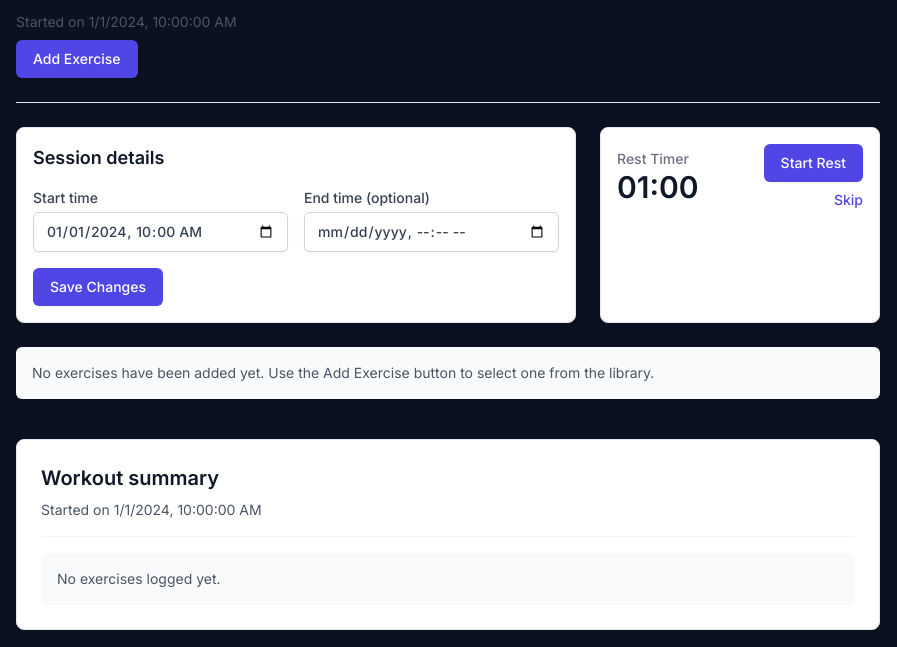
Scenario: WorkoutSessionPage › shows validation error when times are invalid
Replace the text in the field labelled "Start time" with "2024-01-01T12:00" at coordinates (160, 232), box [33,212,288,252]
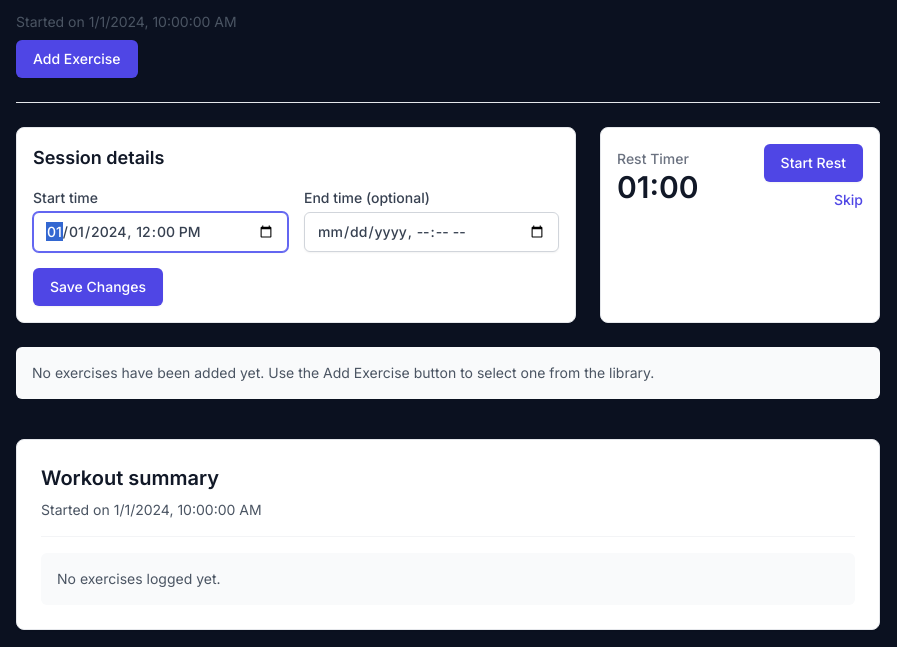
Type "2024-01-01T11:00" into the field labelled "End time (optional)" at coordinates (432, 232), box [304,212,559,252]
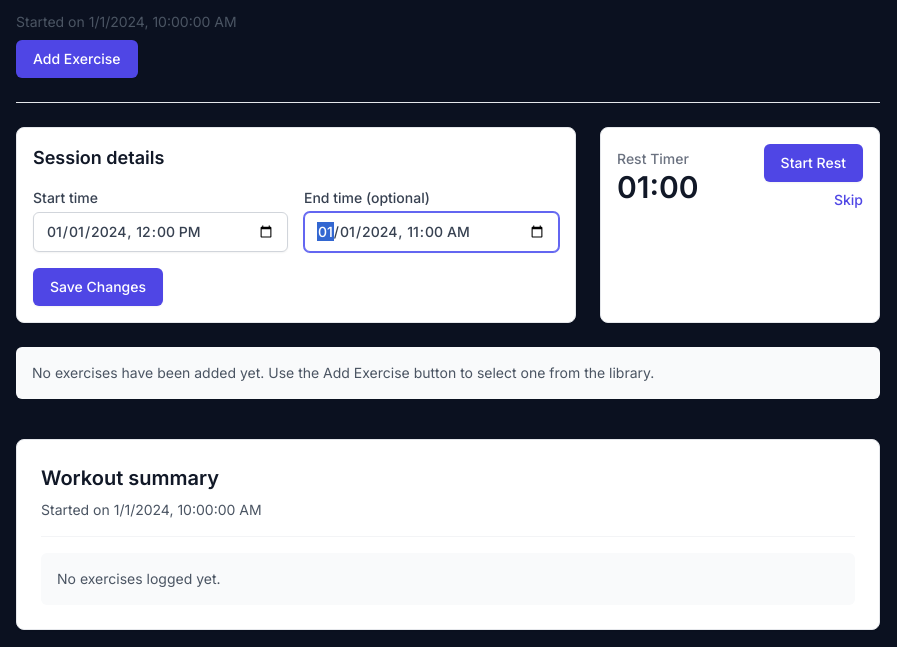
Click the button "Save Changes" at coordinates (98, 287), box [33,268,163,306]
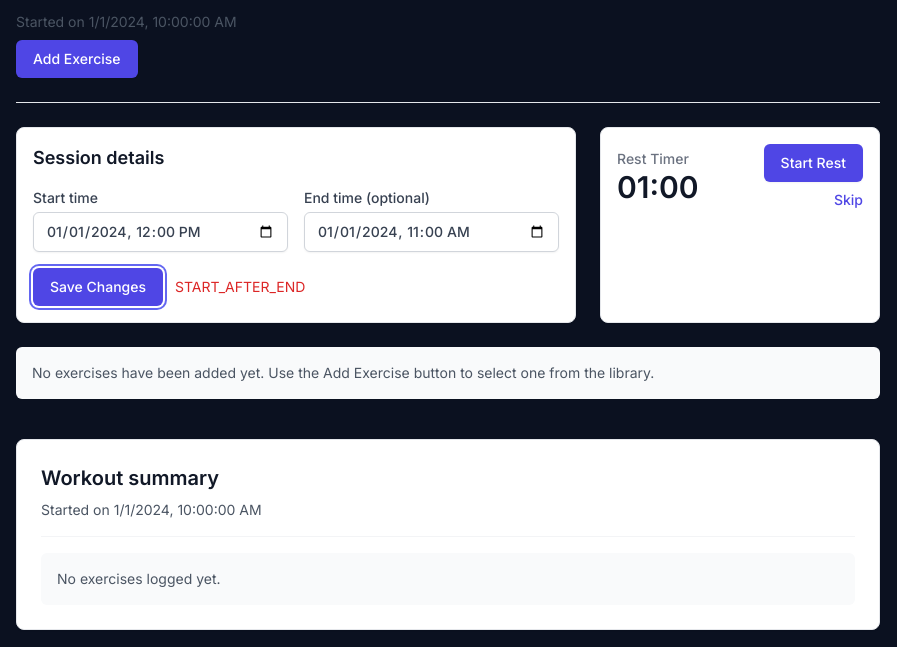
Now the text "START_AFTER_END" is shown, box [175,277,305,297]
